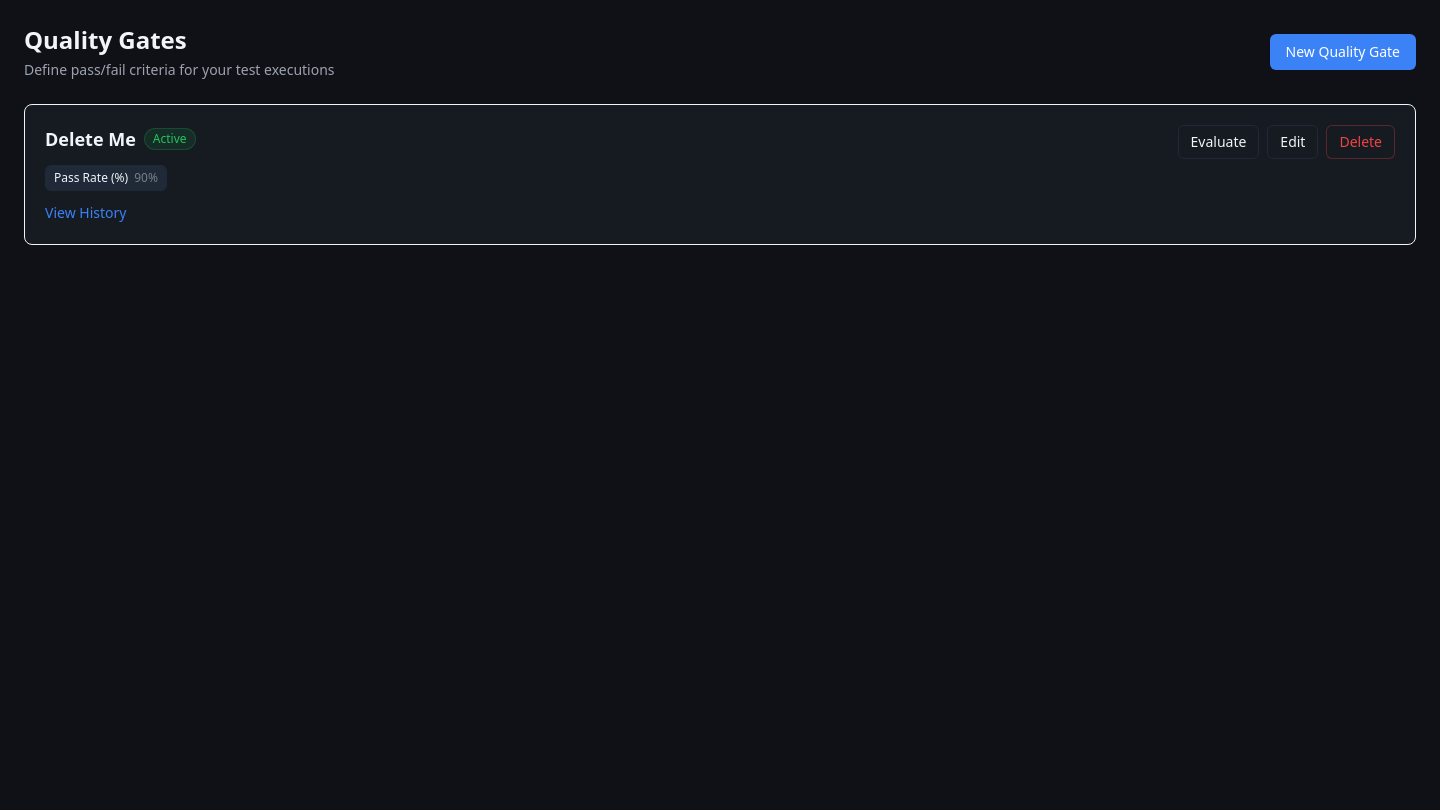
Test: QualityGatesPage › shows toast error when delete mutation fails
Click the button "Delete" at point(1361, 142), box [1326,125,1395,159]
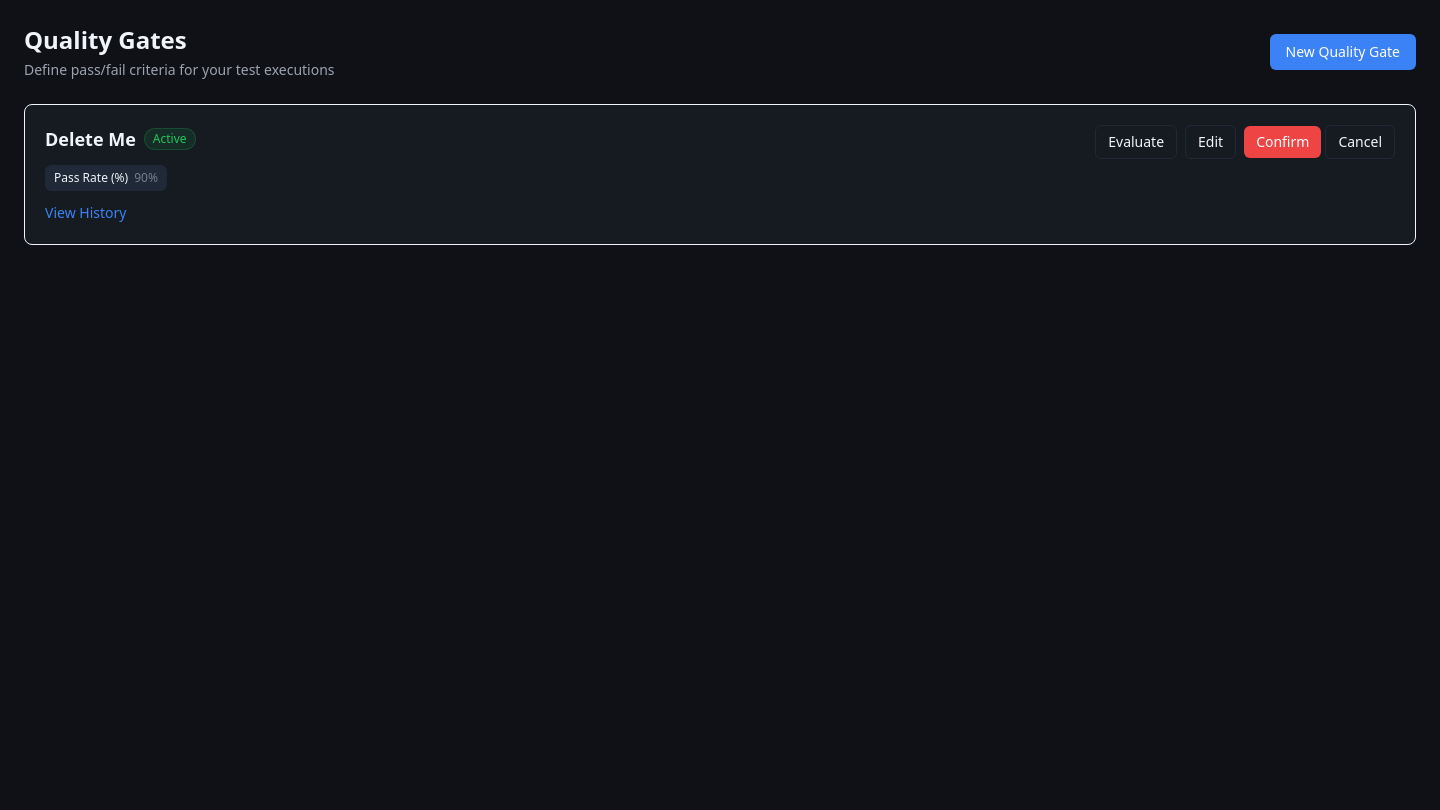
Click the button "Confirm" at point(1283, 142), box [1244,126,1321,158]
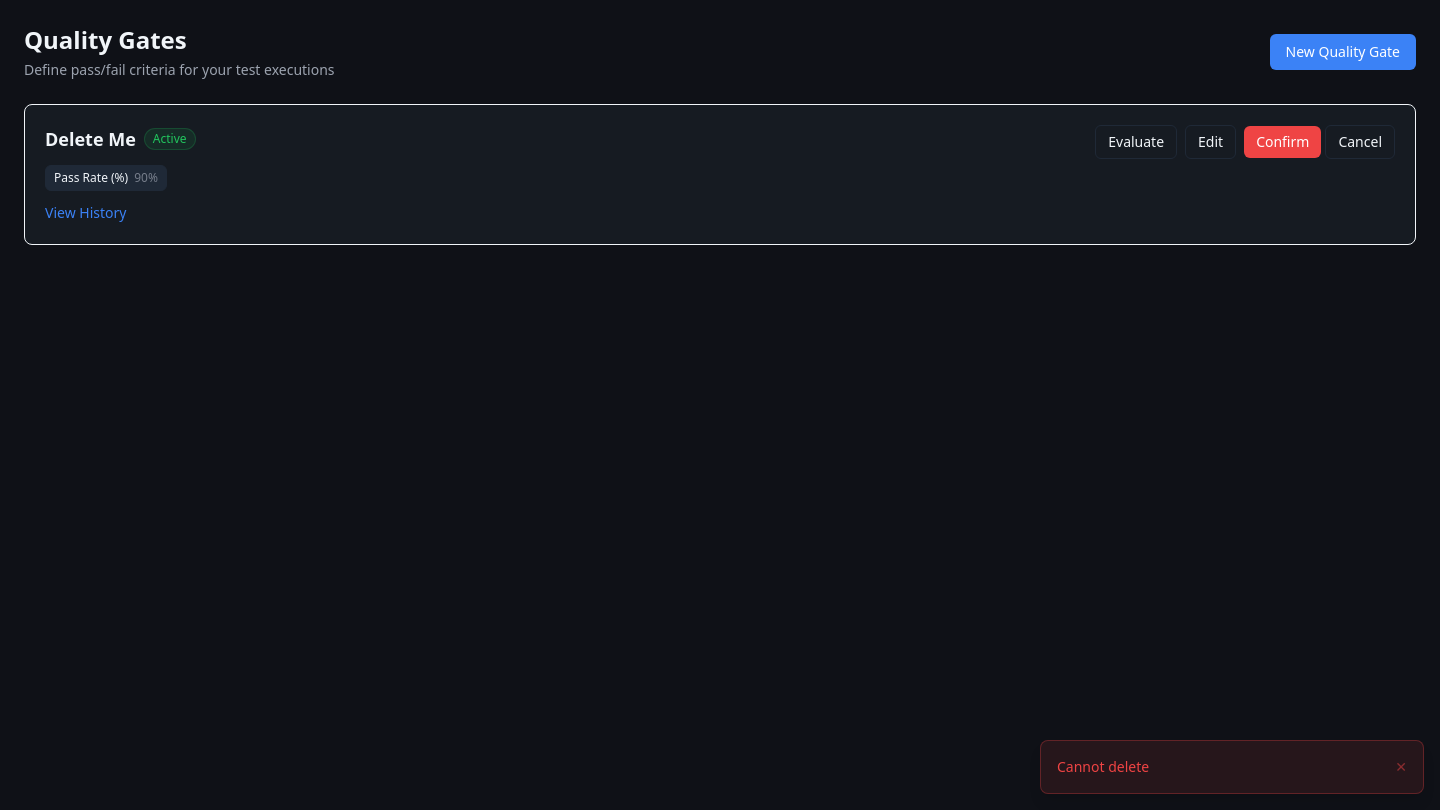
Expected: the text "Cannot delete" is shown, [1057,757,1149,777]
